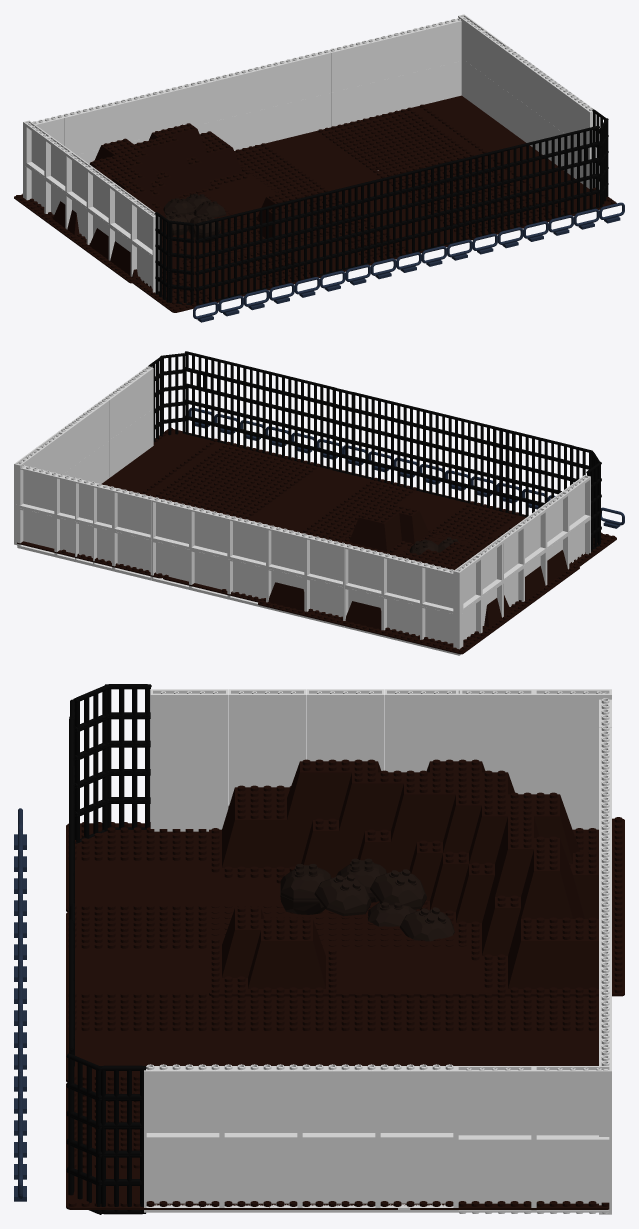
File: Bear Enclosure.dae
3 views of the same model, one above another, from view 1: azimuth 30°, elevation 25°; view 2: azimuth 150°, elevation 25°; view 3: azimuth 270°, elevation 25° (orthographic). The views are drawn at different scales.
Visible parts, largest first — view 1: Part.75, Part.67, Part.66, Part.72, Part.71, Part.69, Part.68, Part.60, Part.61, Part.73, Part.70, Part.74 (+42 smaller); view 2: Part.75, Part.71, Part.70, Part.69, Part.61, Part.74, Part.73, Part.68, Part.18, Part.43, Part.12, Part.16 (+42 smaller); view 3: Part.75, Part.69, Part.67, Part.61, Part.60, Part.71, Part.27, Part.29, Part.21, Part.23, Part.25, Part.20 (+47 smaller).
Boxes of the visible parts, x1=… form: Part.75: x1=14, y1=123, x2=332, y2=283; Part.67: x1=234, y1=129, x2=375, y2=192; Part.66: x1=322, y1=104, x2=476, y2=169; Part.72: x1=367, y1=95, x2=516, y2=158; Part.71: x1=319, y1=197, x2=470, y2=263; Part.69: x1=285, y1=169, x2=430, y2=234; Part.68: x1=378, y1=144, x2=535, y2=211; Part.60: x1=119, y1=244, x2=272, y2=312; Part.61: x1=219, y1=220, x2=374, y2=286; Part.73: x1=423, y1=136, x2=574, y2=200; Part.70: x1=416, y1=172, x2=571, y2=239; Part.74: x1=459, y1=164, x2=616, y2=227; Part.75: x1=258, y1=504, x2=579, y2=654; Part.71: x1=259, y1=463, x2=416, y2=530; Part.70: x1=158, y1=438, x2=313, y2=506; Part.69: x1=242, y1=490, x2=366, y2=541; Part.61: x1=384, y1=487, x2=512, y2=544; Part.74: x1=118, y1=427, x2=268, y2=495; Part.73: x1=101, y1=457, x2=233, y2=506; Part.68: x1=140, y1=465, x2=278, y2=518; Part.18: x1=305, y1=535, x2=347, y2=587; Part.43: x1=228, y1=516, x2=270, y2=568; Part.12: x1=267, y1=525, x2=308, y2=577; Part.16: x1=344, y1=544, x2=385, y2=596; Part.75: x1=209, y1=759, x2=624, y2=996; Part.69: x1=196, y1=993, x2=403, y2=1065; Part.67: x1=404, y1=996, x2=598, y2=1065; Part.61: x1=66, y1=909, x2=273, y2=997; Part.60: x1=66, y1=822, x2=271, y2=911; Part.71: x1=66, y1=993, x2=273, y2=1082; Part.27: x1=150, y1=689, x2=228, y2=765; Part.29: x1=228, y1=689, x2=306, y2=765; Part.21: x1=222, y1=1064, x2=299, y2=1141; Part.23: x1=300, y1=1064, x2=377, y2=1141; Part.25: x1=378, y1=1064, x2=455, y2=1141; Part.20: x1=144, y1=1064, x2=221, y2=1141.
Bounding box in the file's own units: 564 × 117 × 376.
